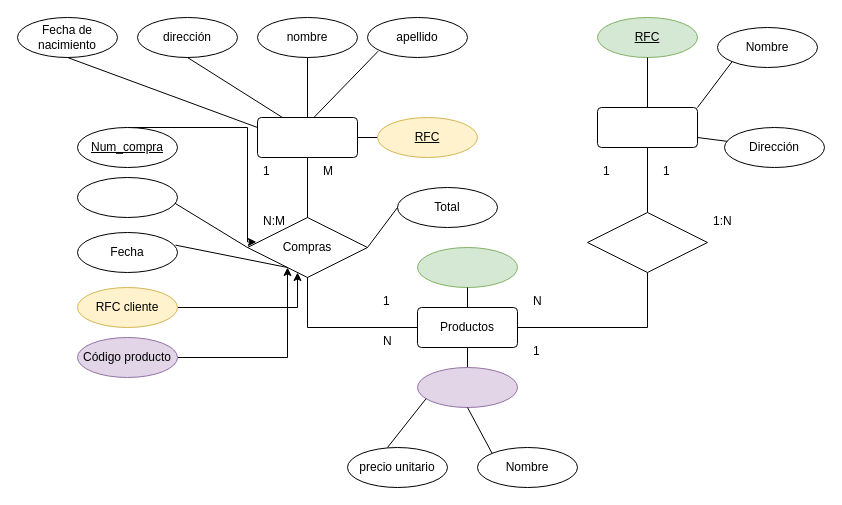
Image size: 842x505. Some labels were removed from this diagram. Here are the shapes that lost their labels. From the top down, the centre of each, then its label:
At point 307,137: "Clientes".
At point 647,127: "Proveedores".
At point 127,197: "Costo".
At point 647,242: "Suministra".
At point 467,267: "RFC proveedor".
At point 467,387: "Código".
